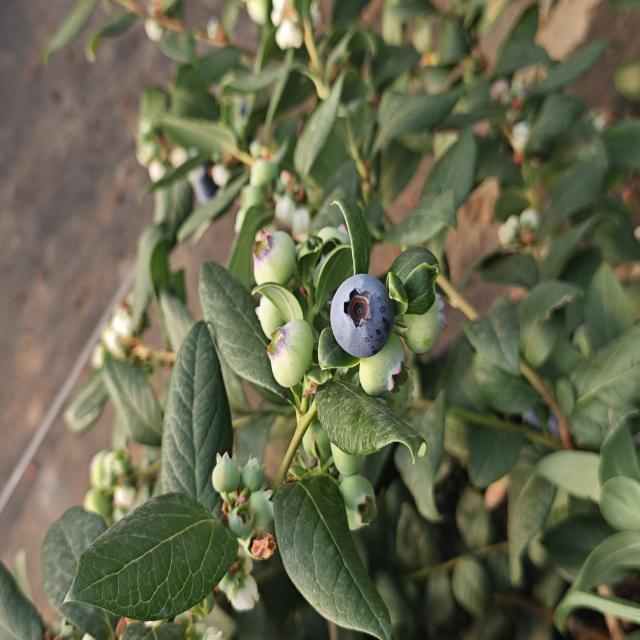ripe: (324, 267, 402, 361)
